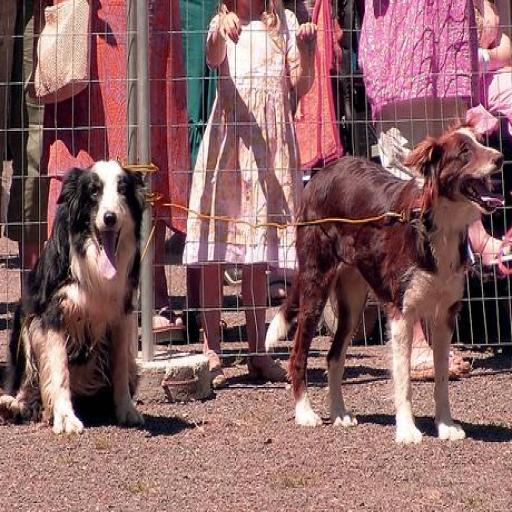dog_face: (53, 150, 146, 282), (408, 119, 506, 225)
